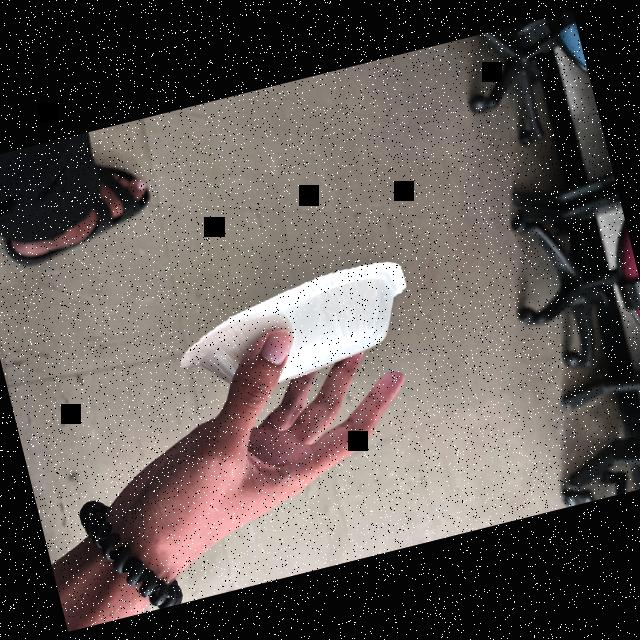cardboard_bowl: (166, 246, 428, 402)
